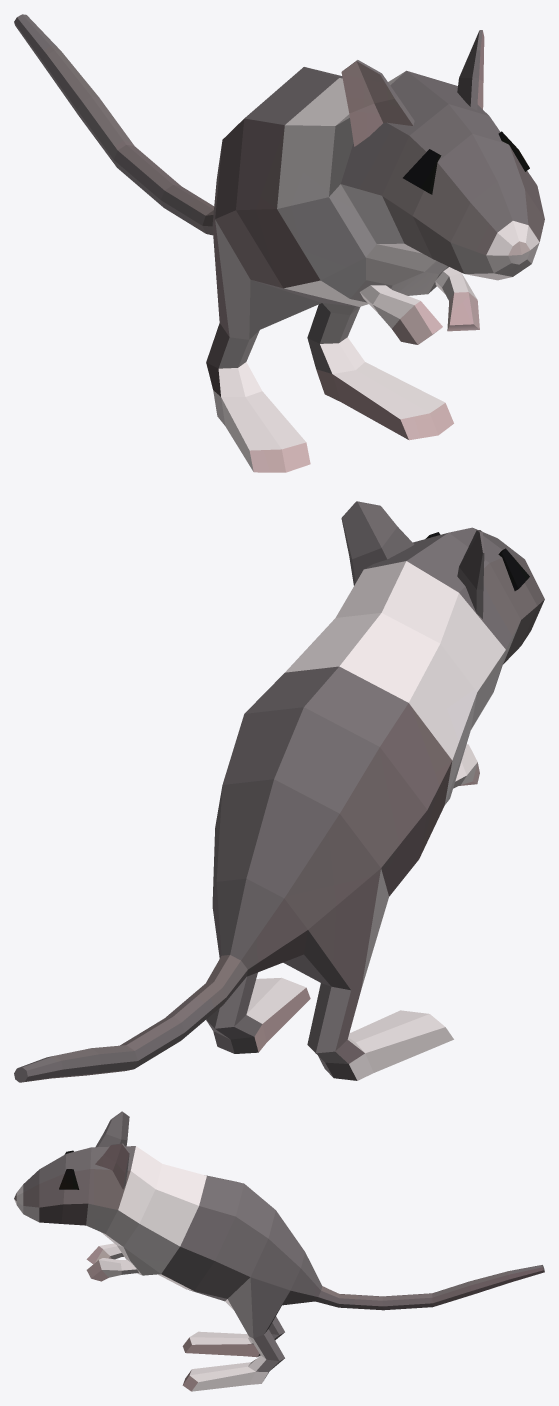
File: 21aV-tPKz5O.glb
3 views of the same model, one above another, from view 1: azimuth 30°, elevation 25°; view 2: azimuth 150°, elevation 25°; view 3: azimuth 270°, elevation 25° (orthographic). The views are drawn at different scales.
Visible parts, largest first — view 1: Geo_Gerbil; view 2: Geo_Gerbil; view 3: Geo_Gerbil.
Boxes of the visible parts, left/top/right/bottom form: Geo_Gerbil: left=14, top=14, right=544, bottom=472; Geo_Gerbil: left=14, top=501, right=544, bottom=1082; Geo_Gerbil: left=14, top=1111, right=544, bottom=1391.
Bounding box in the file's own units: 0.4656 × 0.9999 × 2.02.
Materials: 1 (1 with a texture image).
